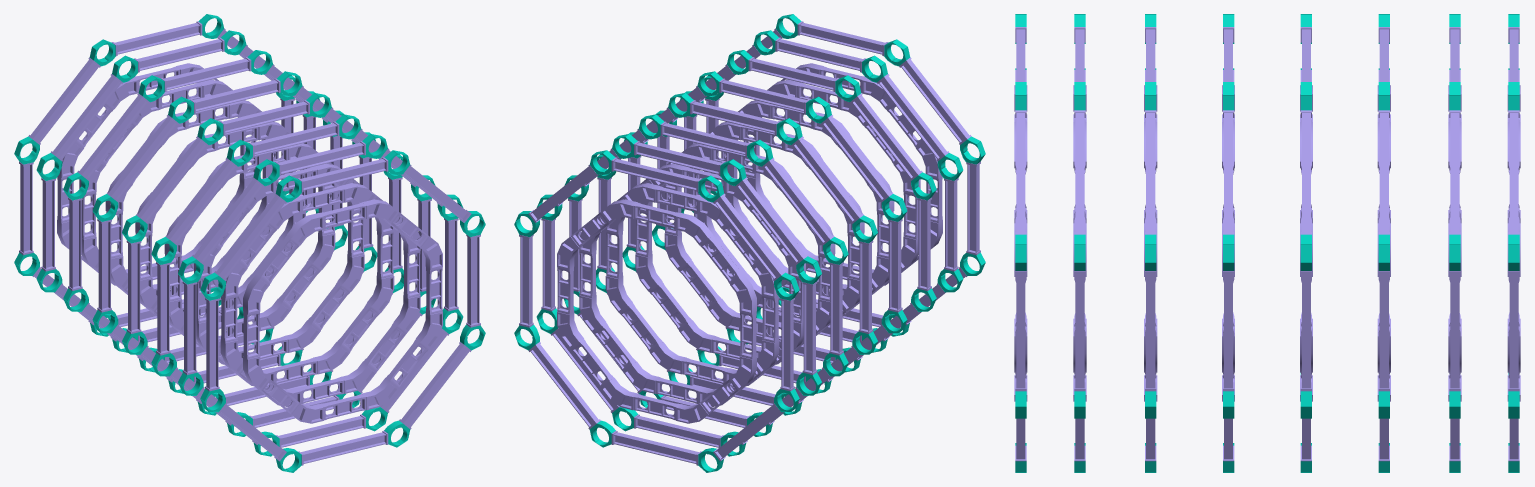
The model's file is support-btwarm.glb.
3 views of the same model, side by side, from view 1: azimuth 30°, elevation 25°; view 2: azimuth 150°, elevation 25°; view 3: azimuth 270°, elevation 25° (orthographic). The views are drawn at different scales.
Visible parts, largest first — view 1: Warm-Structure.003; view 2: Warm-Structure.003; view 3: Warm-Structure.003.
Boxes of the visible parts, bbox=[...] form: Warm-Structure.003: bbox=[14, 14, 485, 472]; Warm-Structure.003: bbox=[514, 14, 985, 472]; Warm-Structure.003: bbox=[1014, 14, 1520, 472].
Bounding box in the file's own units: 18.93 × 18.93 × 22.27.
